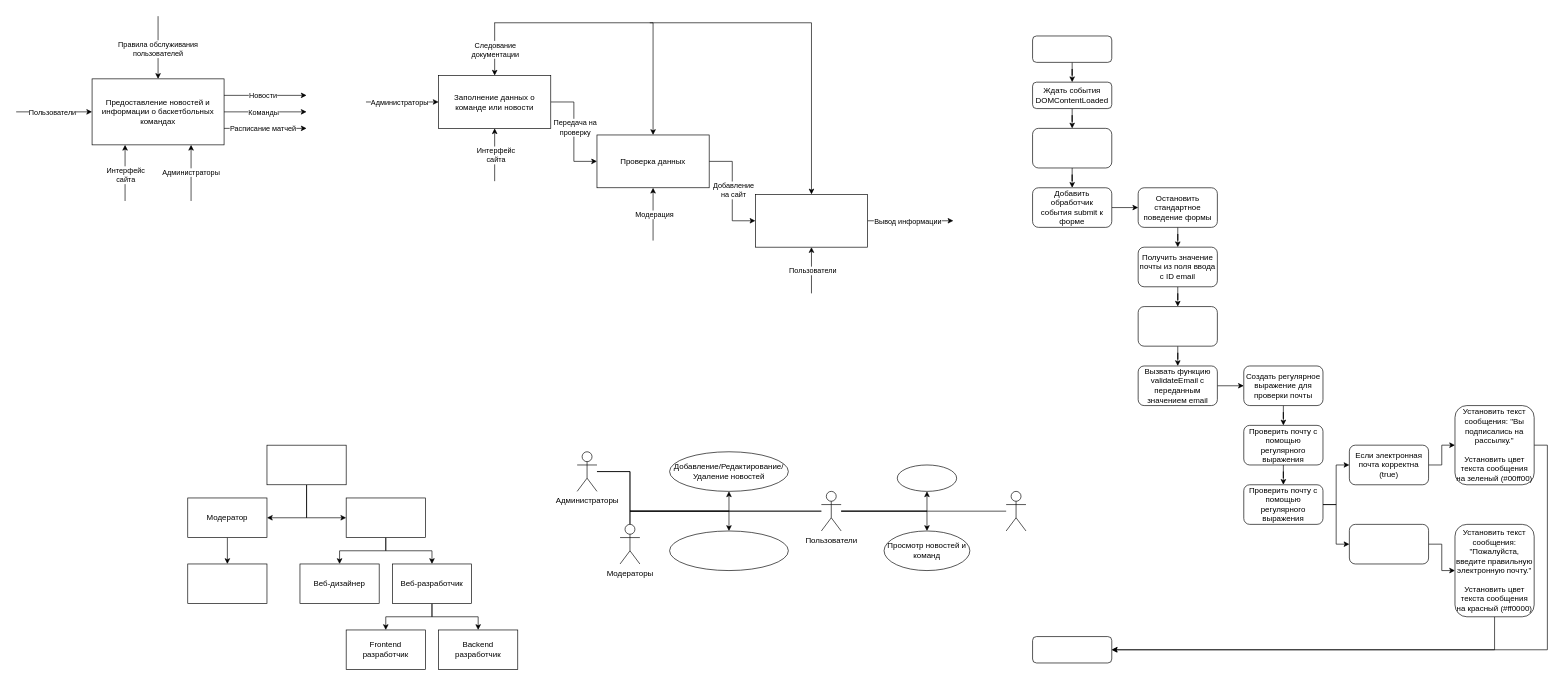
The diagram is 1564 pixels wide and 681 high, and some of its shapes have lost their labels. The shapes that lost their labels are listed below. From the top down, each one's centre as x and y in pixels, then its label:
At point (1072, 48): "Начало".
At point (1072, 148): "Получить элемент формы с классом subscribeForm".
At point (811, 220): "Вывод на сайт".
At point (1177, 326): "Получить элемент для сообщений с ID message".
At point (306, 465): "Директор".
At point (927, 477): "Подписка на рассылку".
At point (385, 517): "Технический специалист".
At point (1016, 511): "Система".
At point (728, 550): "Добавление/Редактирование/Удаление команд".
At point (1389, 544): "Если электронная почта некорректна (false)".
At point (227, 583): "Администратор".
At point (1072, 649): "Конец".
